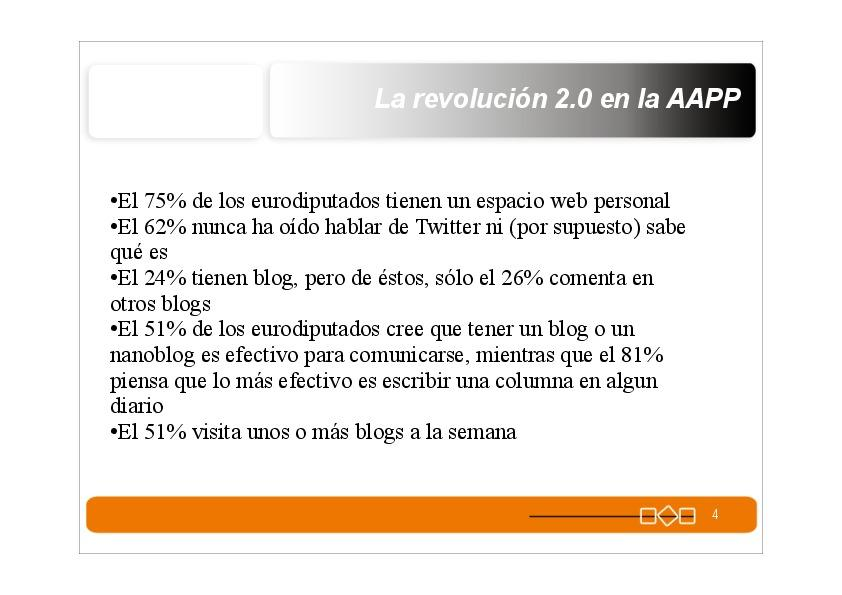paragraph: (100, 179, 727, 459)
title: (368, 73, 749, 123)
